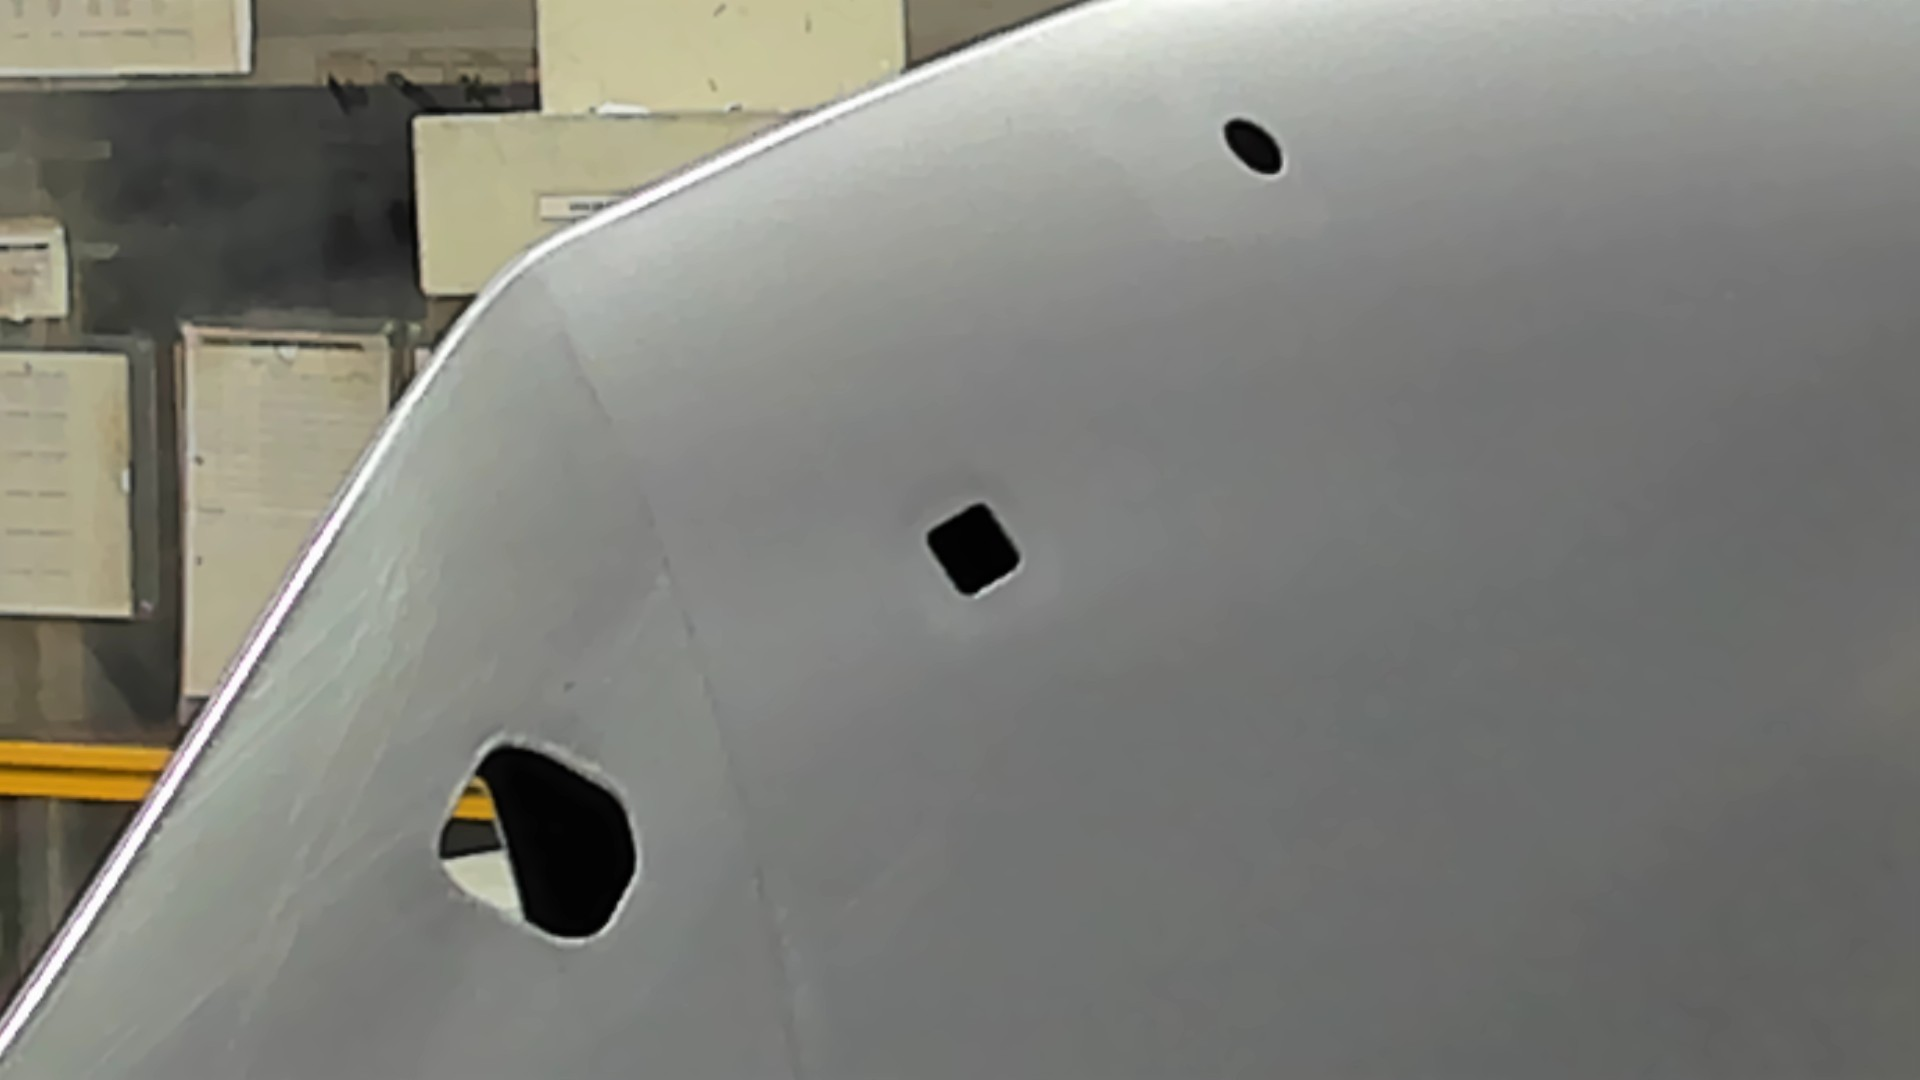chico: (1222, 115, 1288, 179)
grande: (433, 729, 647, 949)
mediano: (923, 496, 1027, 603)
